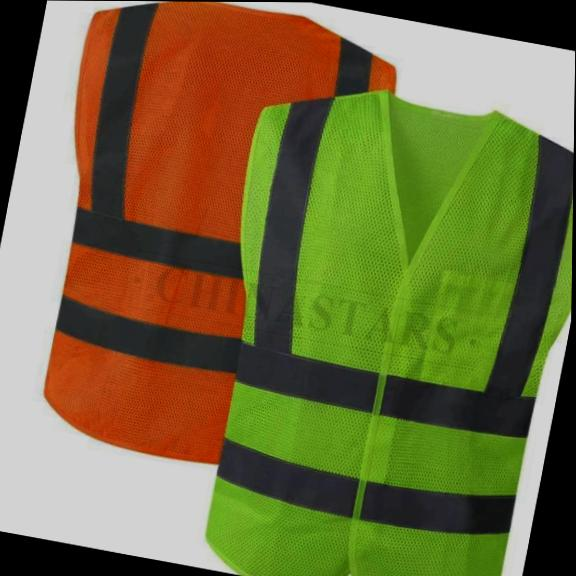safety_vest: (168, 68, 575, 576), (8, 0, 407, 485)
